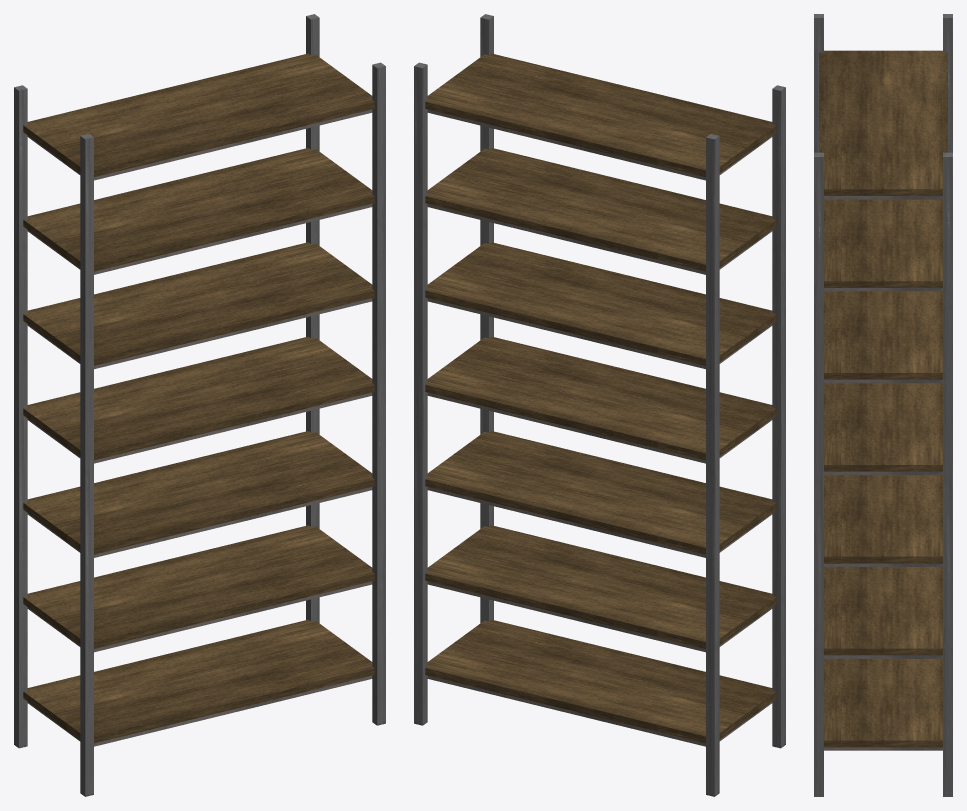
The model's file is etagere_small.fbx.
3 renders of one model, left to right at view 1: azimuth 30°, elevation 25°; view 2: azimuth 150°, elevation 25°; view 3: azimuth 270°, elevation 25°, orthographic. The views are drawn at different scales.
Parts seen in each view (by area): view 1: plancheMed, poteauMed; view 2: plancheMed, poteauMed; view 3: plancheMed, poteauMed.
Boxes of the visible parts, x1,y1,x2,y2 form: plancheMed: [23, 53, 374, 746]; poteauMed: [14, 14, 385, 796]; plancheMed: [425, 53, 776, 746]; poteauMed: [414, 14, 785, 796]; plancheMed: [819, 50, 947, 750]; poteauMed: [814, 14, 952, 796].
Bounding box in the file's own units: 661 × 1382 × 272.
